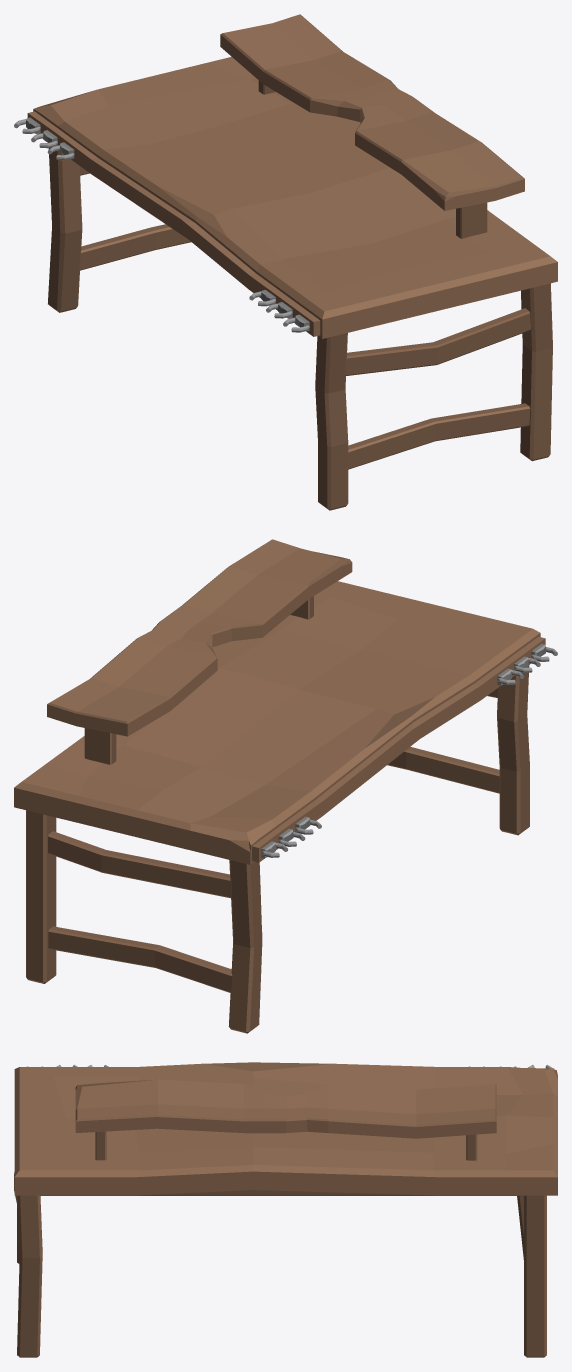
The model's file is Workbench.fbx.
3 renders of one model, top to bottom at view 1: azimuth 30°, elevation 25°; view 2: azimuth 150°, elevation 25°; view 3: azimuth 270°, elevation 25°, orthographic. The views are drawn at different scales.
Parts seen in each view (by area): view 1: Workbench; view 2: Workbench; view 3: Workbench.
Part boxes in pixels (<box>): Workbench: <box>14,14,557,510</box>; Workbench: <box>14,539,557,1033</box>; Workbench: <box>14,1062,557,1357</box>.
Bounding box in the file's own units: 156 × 150 × 301.
1 material, 1 textured.
